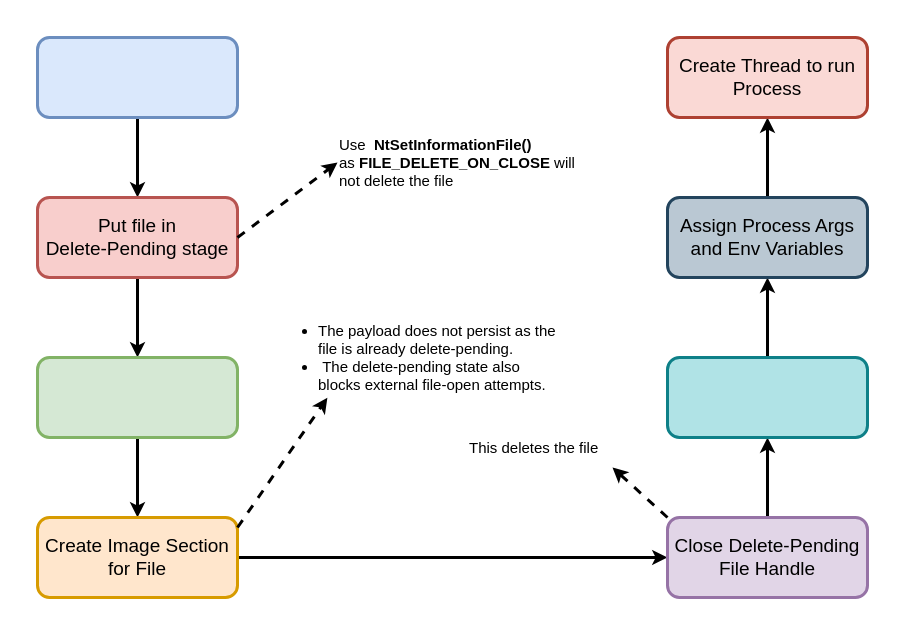
Some shapes in this 904 by 634 pixel diagram are drawn without their labels. Each missing label, with the centre of its shape:
"Create File" goes at pixel 137 77.
"Create Process from Image Section" goes at pixel 767 397.
"Write Executable Payload to File" goes at pixel 137 397.
